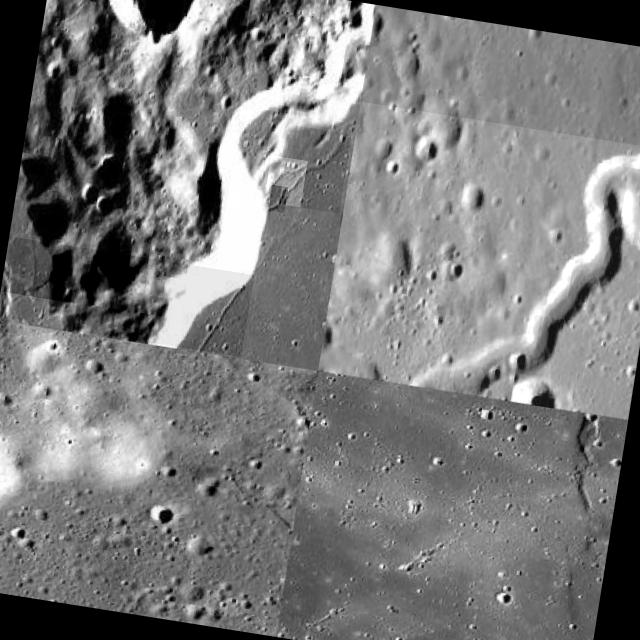rille: (318, 102, 640, 419), (100, 412, 306, 634), (0, 236, 254, 357), (284, 126, 352, 214), (0, 291, 76, 330), (264, 156, 308, 208), (268, 185, 288, 213)
